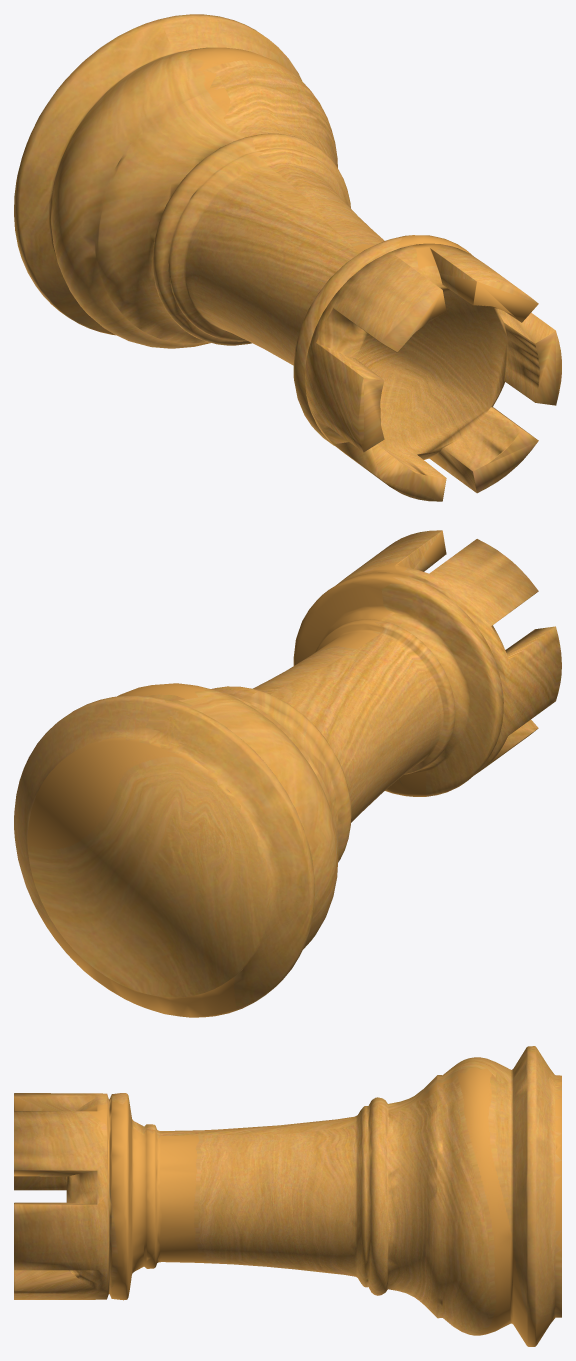
The model's file is Torre_Bianca_3k.obj.
3 renders of one model, top to bottom at view 1: azimuth 30°, elevation 25°; view 2: azimuth 150°, elevation 25°; view 3: azimuth 270°, elevation 25°, orthographic. The views are drawn at different scales.
Visible parts, largest first — view 1: 12934_Wooden_Chess_Rook_Side_B_V2_L3; view 2: 12934_Wooden_Chess_Rook_Side_B_V2_L3; view 3: 12934_Wooden_Chess_Rook_Side_B_V2_L3.
Boxes of the visible parts, left/top/right/bottom form: 12934_Wooden_Chess_Rook_Side_B_V2_L3: left=14, top=14, right=561, bottom=501; 12934_Wooden_Chess_Rook_Side_B_V2_L3: left=14, top=530, right=561, bottom=1017; 12934_Wooden_Chess_Rook_Side_B_V2_L3: left=14, top=1046, right=561, bottom=1346.
Bounding box in the file's own units: 4.64 × 4.64 × 8.46.
Materials: 1 (1 with a texture image).
